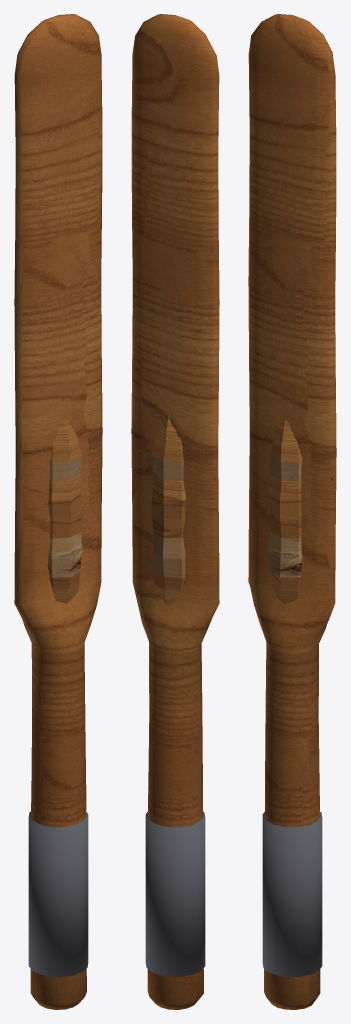
File: chizh.glb
3 views of the same model, side by side, from view 1: azimuth 30°, elevation 25°; view 2: azimuth 150°, elevation 25°; view 3: azimuth 330°, elevation 25° (orthographic).
Visible parts, largest first — view 1: bita, bita-tape, chizh; view 2: bita, bita-tape, chizh; view 3: bita, bita-tape, chizh.
Part boxes in pixels (x1,y1,x2,y2): bita: (14, 14, 102, 1009); bita-tape: (28, 811, 88, 976); chizh: (48, 419, 82, 603); bita: (131, 14, 219, 1009); bita-tape: (145, 811, 205, 976); chizh: (151, 416, 185, 605); bita: (248, 14, 336, 1009); bita-tape: (262, 811, 322, 977); chizh: (267, 419, 302, 603).
Bounding box in the file's own units: 0.0558 × 0.6 × 0.033.
7 materials, 4 textured.
